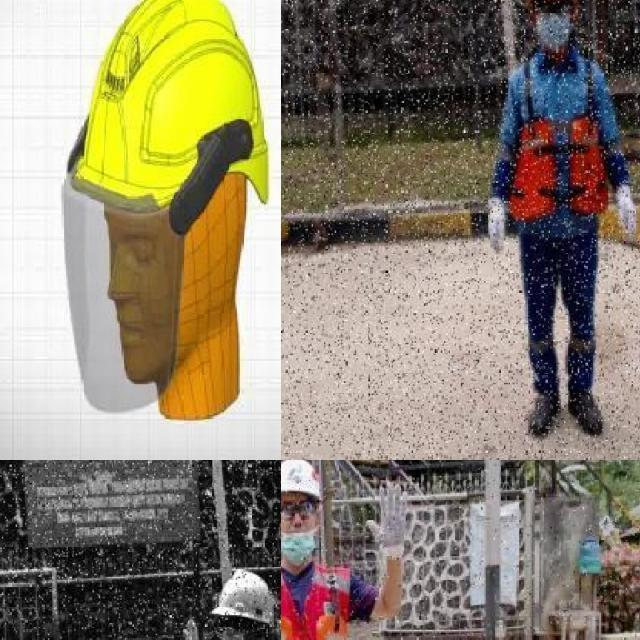apron: (364, 480, 410, 560), (612, 183, 640, 246), (484, 195, 508, 258), (177, 615, 204, 640)
